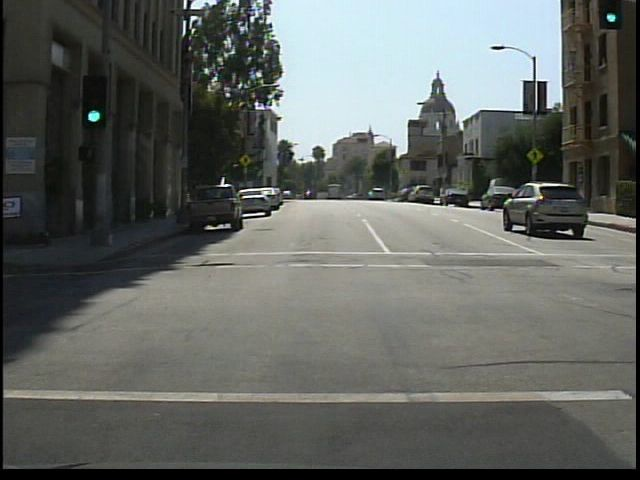person: (3, 160, 8, 254)
